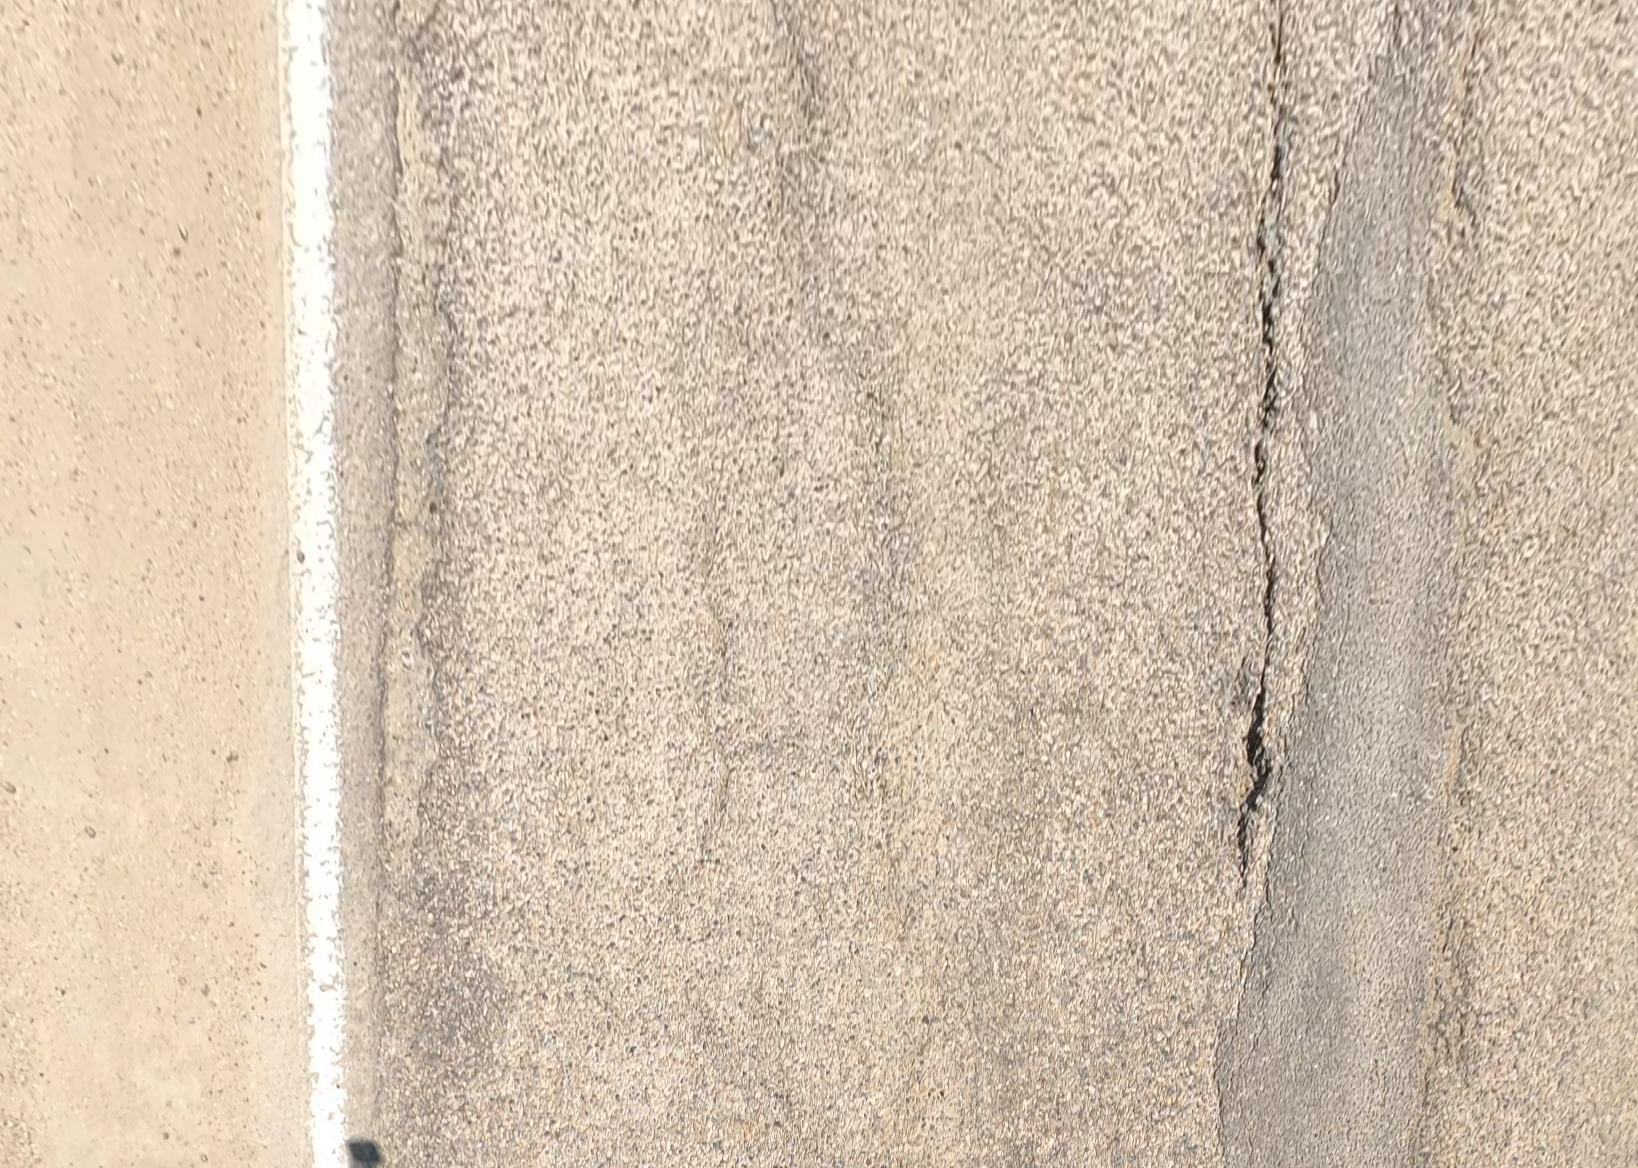pothole: (1239, 686, 1275, 885)
pothole_patch_good: (1221, 3, 1472, 1167)
